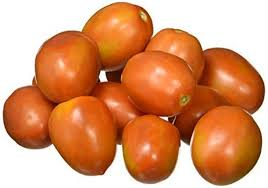tomato: (186, 105, 262, 175), (48, 95, 114, 172), (126, 48, 196, 118), (123, 114, 183, 185), (33, 26, 93, 87), (83, 6, 142, 60)
